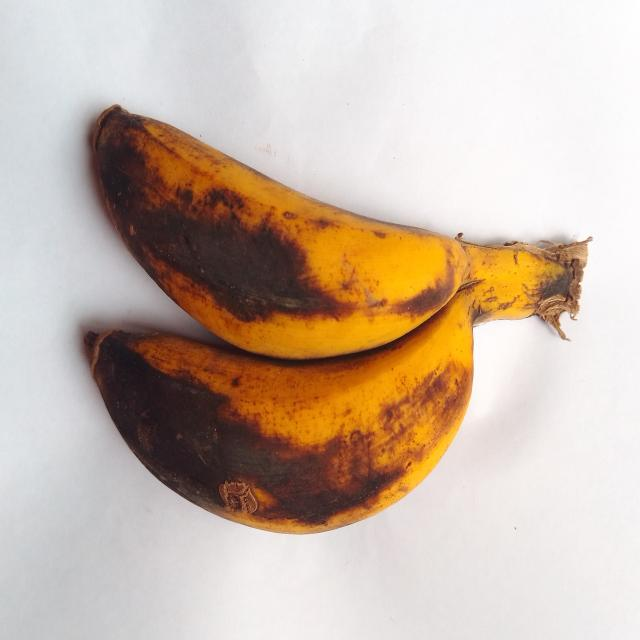banana: (88, 243, 586, 533), (95, 106, 468, 358)
